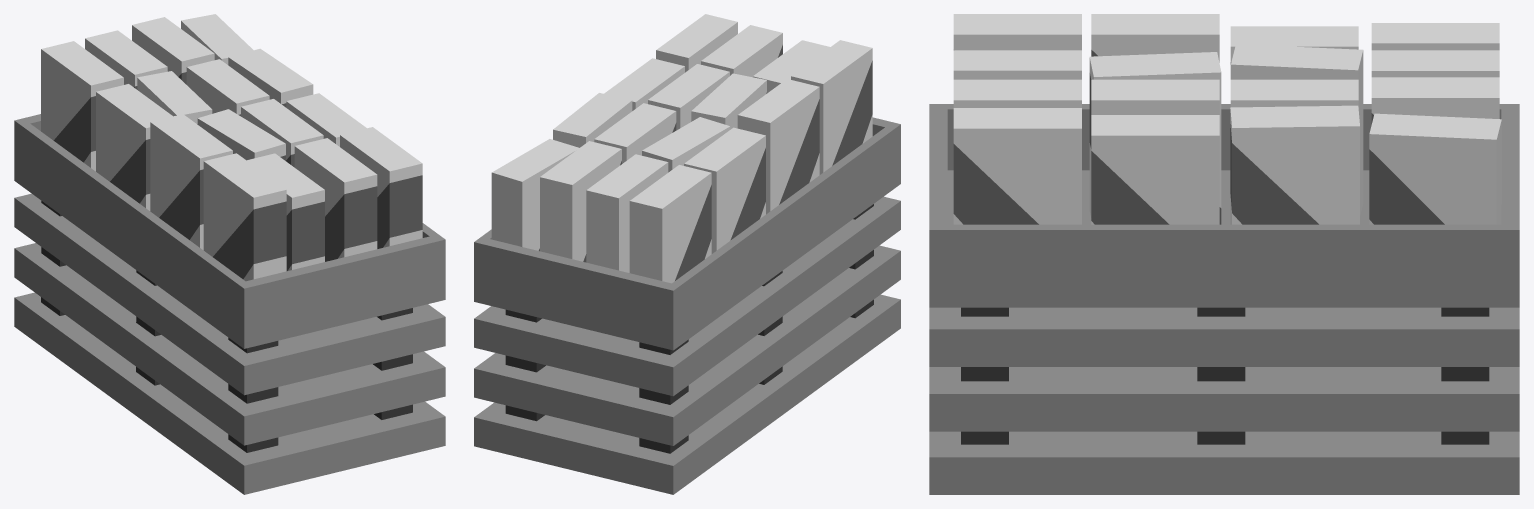
The model's file is food_stack_E.FBX.
3 views of the same model, side by side, from view 1: azimuth 30°, elevation 25°; view 2: azimuth 150°, elevation 25°; view 3: azimuth 270°, elevation 25° (orthographic). The views are drawn at different scales.
Parts seen in each view (by area): view 1: food_stack_E; view 2: food_stack_E; view 3: food_stack_E.
Part boxes in pixels (left/top/right/bottom): food_stack_E: left=14, top=14, right=445, bottom=494; food_stack_E: left=474, top=14, right=900, bottom=494; food_stack_E: left=929, top=14, right=1519, bottom=494.
Size of the model in its own units: 39.77 by 53.88 by 78.58.
